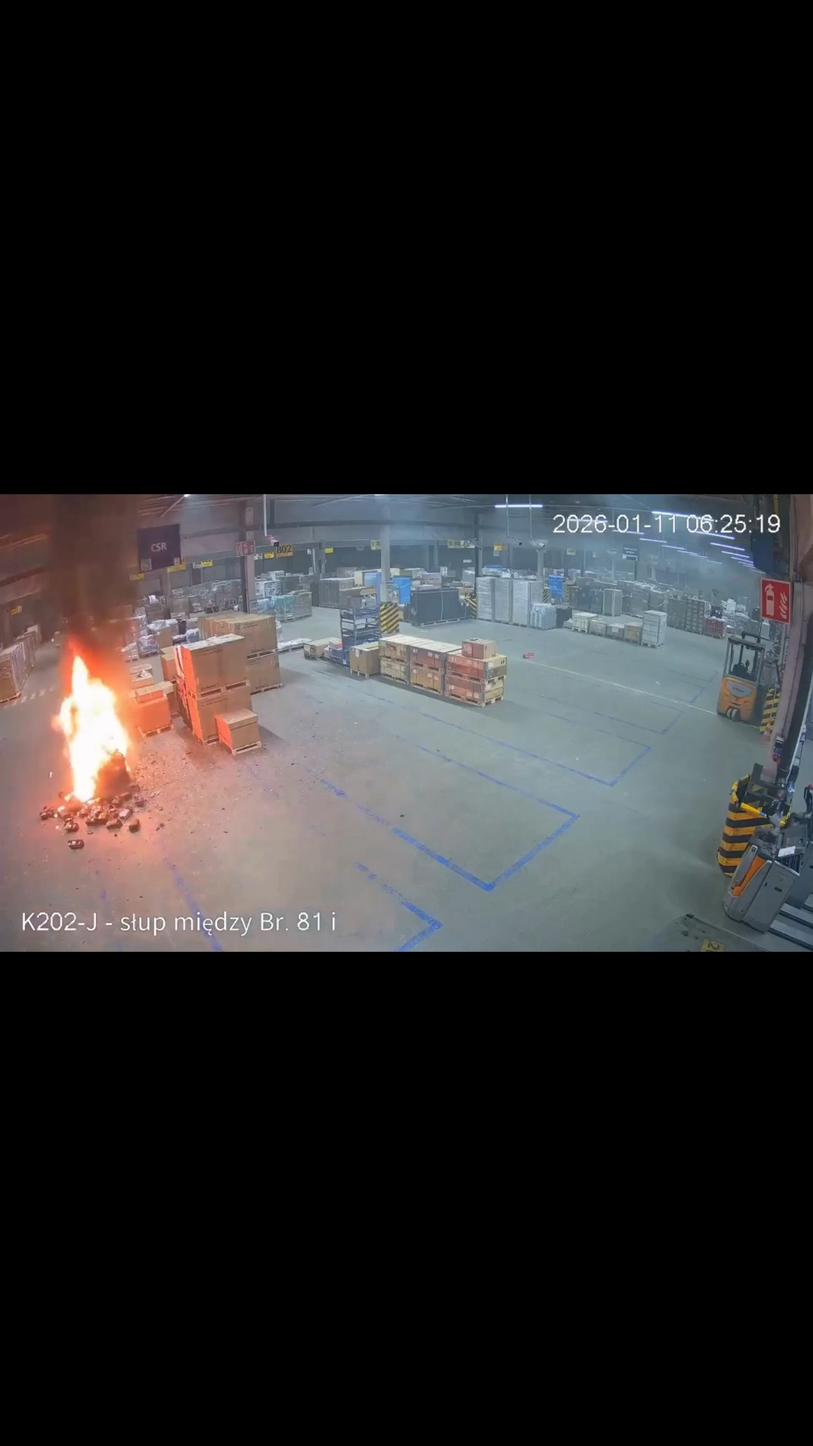fire: (52, 630, 136, 811)
smoke: (15, 496, 145, 657)
